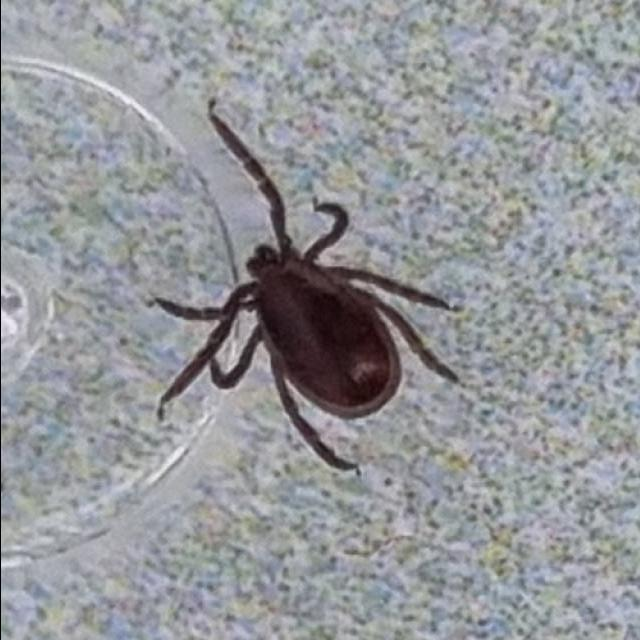Ixodes Ricinus-M: (154, 99, 462, 474)
